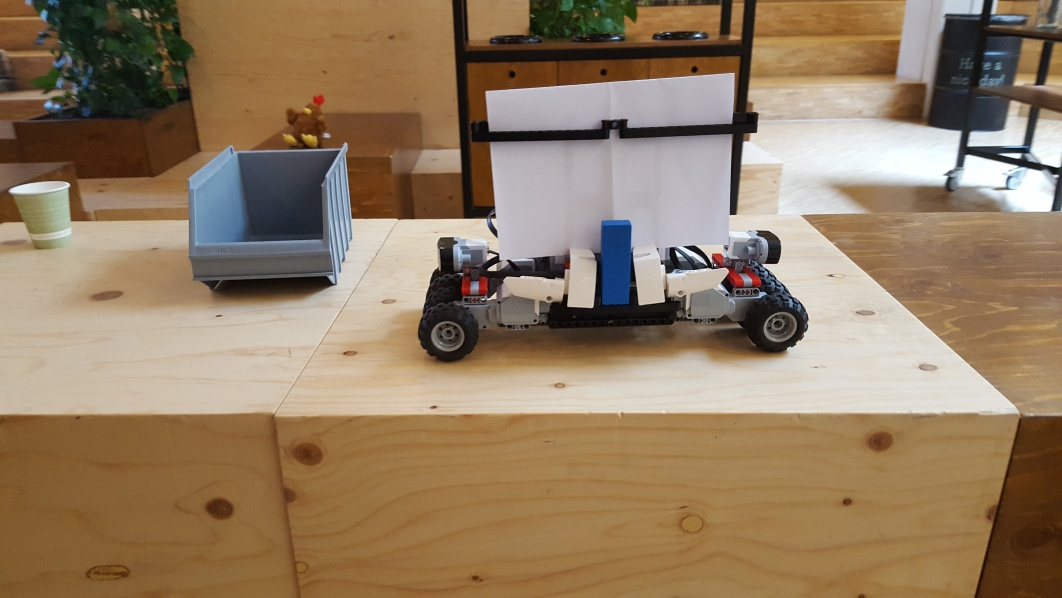car: (418, 74, 813, 354)
chicken: (278, 94, 332, 149)
cup: (9, 180, 74, 250)
tray: (183, 143, 354, 291)
